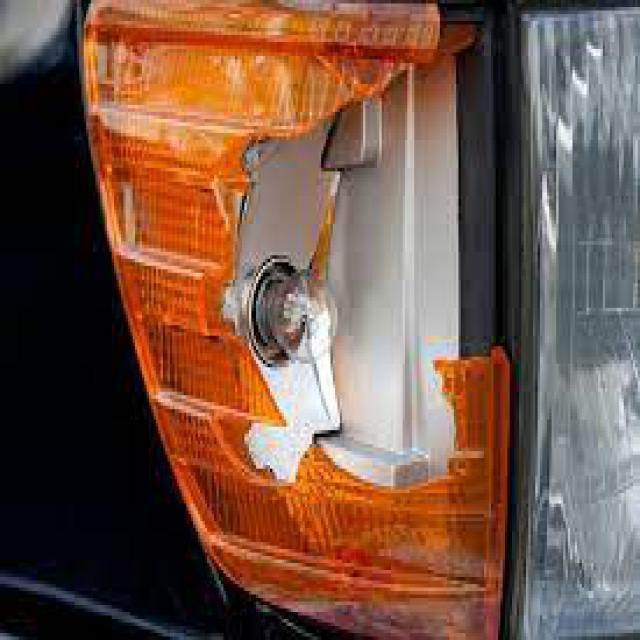Signlight-Damage: (61, 3, 516, 630)
